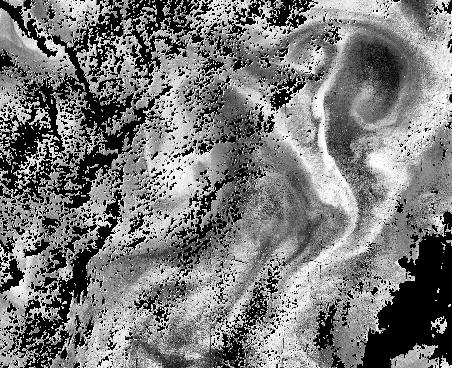AE: (339, 26, 415, 131)
CE: (281, 13, 345, 74)
